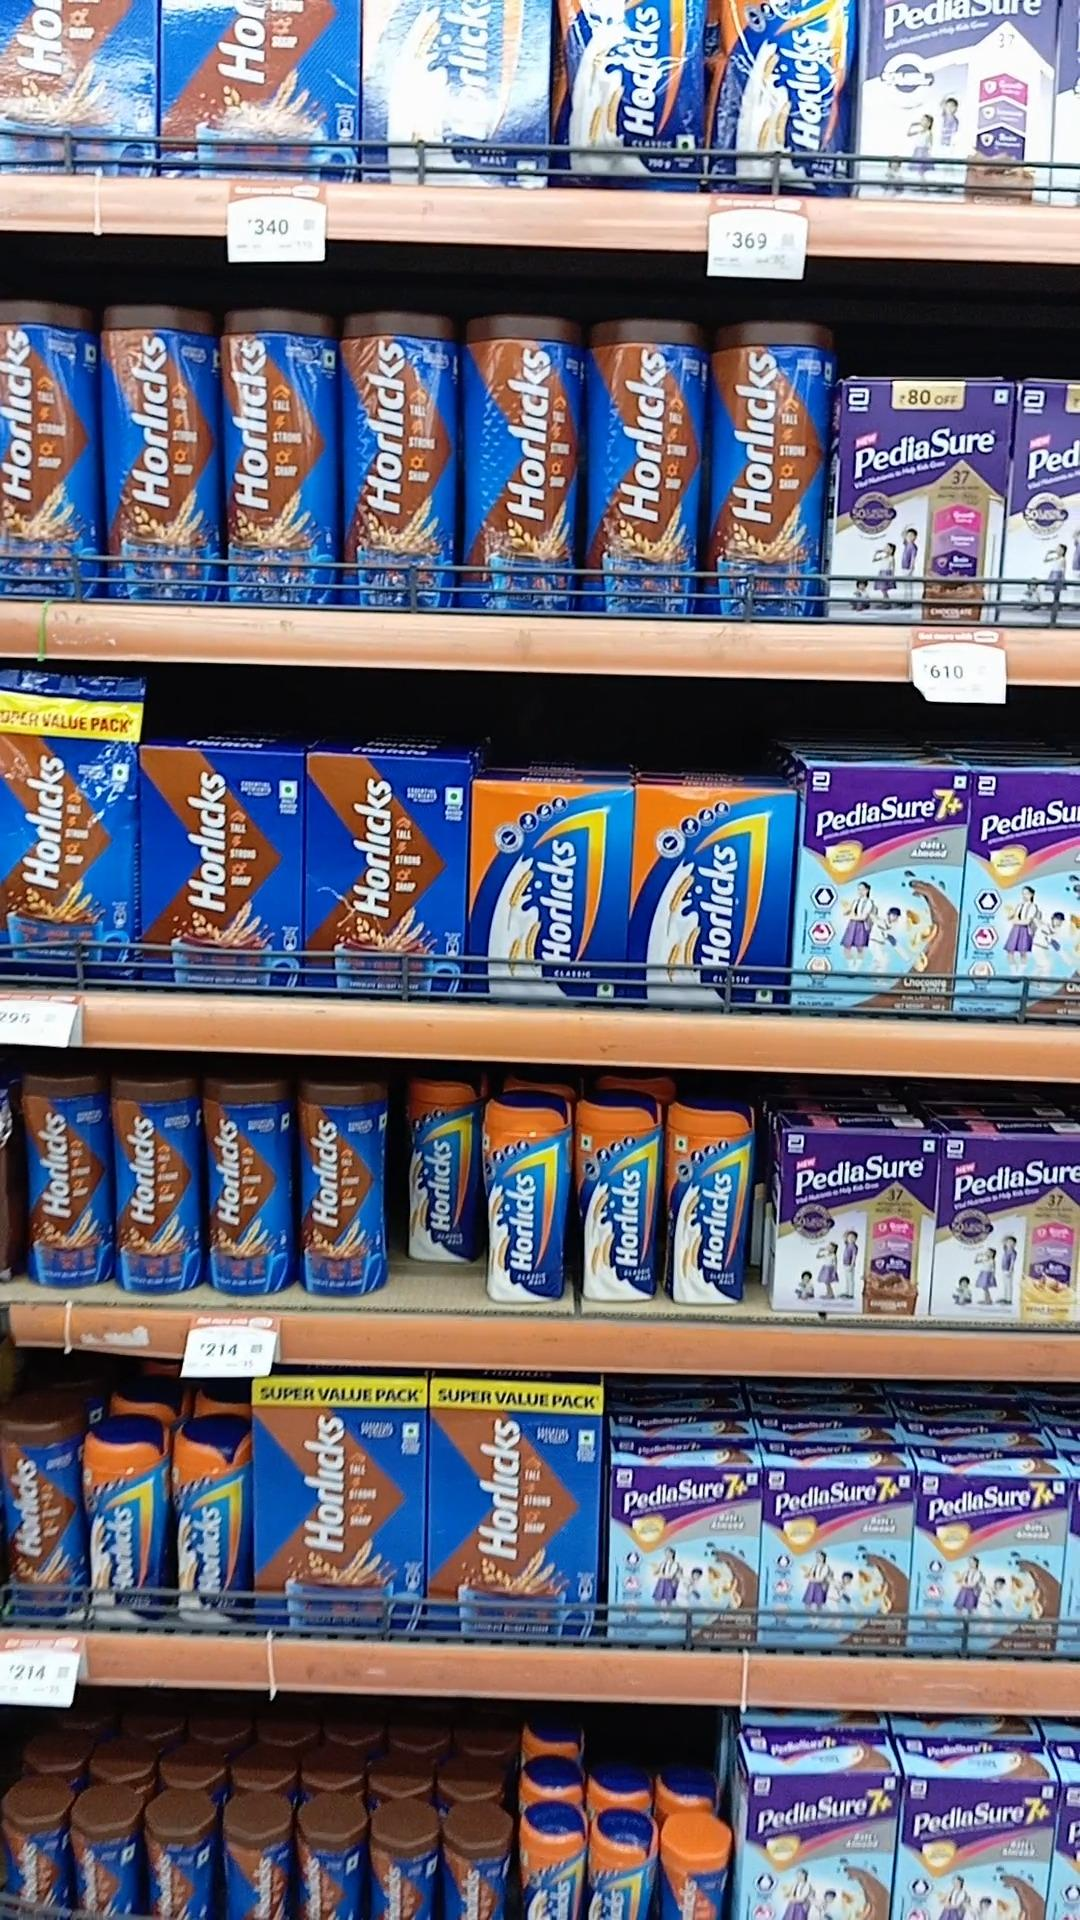HORLICK_CHOCOLATE_1_KG_JAR: (471, 306, 587, 612), (103, 299, 219, 596), (224, 311, 340, 608), (715, 320, 831, 616), (592, 311, 703, 616), (348, 310, 460, 609), (4, 297, 95, 599)
HORLICK_CHOCOLATE_1_KG_PACK: (256, 1381, 429, 1631), (434, 1377, 600, 1630)
HORLICK_CHOCOLATE_500_G_JAR: (299, 1071, 386, 1302), (21, 1073, 108, 1290), (208, 1077, 294, 1296), (115, 1075, 196, 1300), (0, 1402, 79, 1621)
HORLICK_CHOCOLATE_500_G_PACK: (145, 746, 306, 994), (313, 750, 467, 996)
HORLICK_CHOCOLATE_750_G_POUCH: (0, 674, 138, 988)
HORLICK_CLASSIC_MALT_500_G_JAR: (485, 1089, 566, 1308), (84, 1420, 165, 1623), (580, 1091, 658, 1300), (669, 1100, 746, 1308), (171, 1424, 249, 1627), (407, 1063, 480, 1259)
HORLICK_CLASSIC_MALT_500_G_PACK: (638, 781, 796, 1009), (475, 774, 626, 1001)
PEDIASURE_7_PLUS_CHOCOLATE_400_G_PACK: (808, 762, 964, 1013), (913, 1474, 1067, 1650), (609, 1466, 758, 1638), (769, 1464, 906, 1647)
PEDIASURE_CHOCOLATE_500_G_PACK: (844, 377, 998, 634), (775, 1131, 932, 1311)
